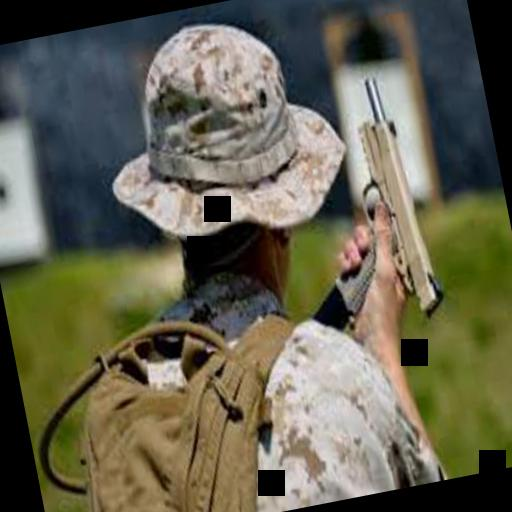Handgun: (282, 71, 448, 346)
